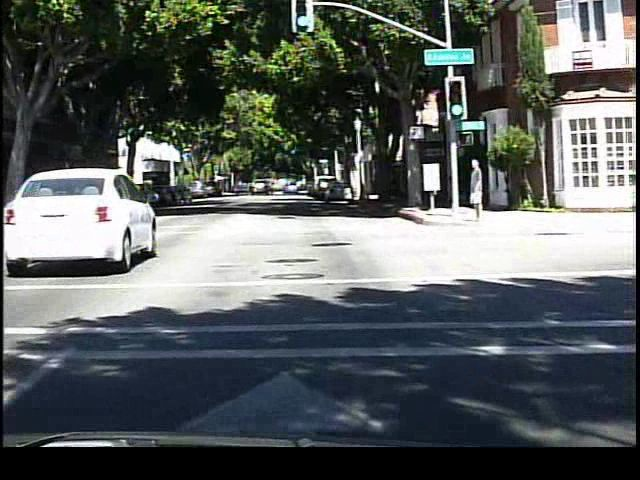person: (465, 157, 488, 222)
